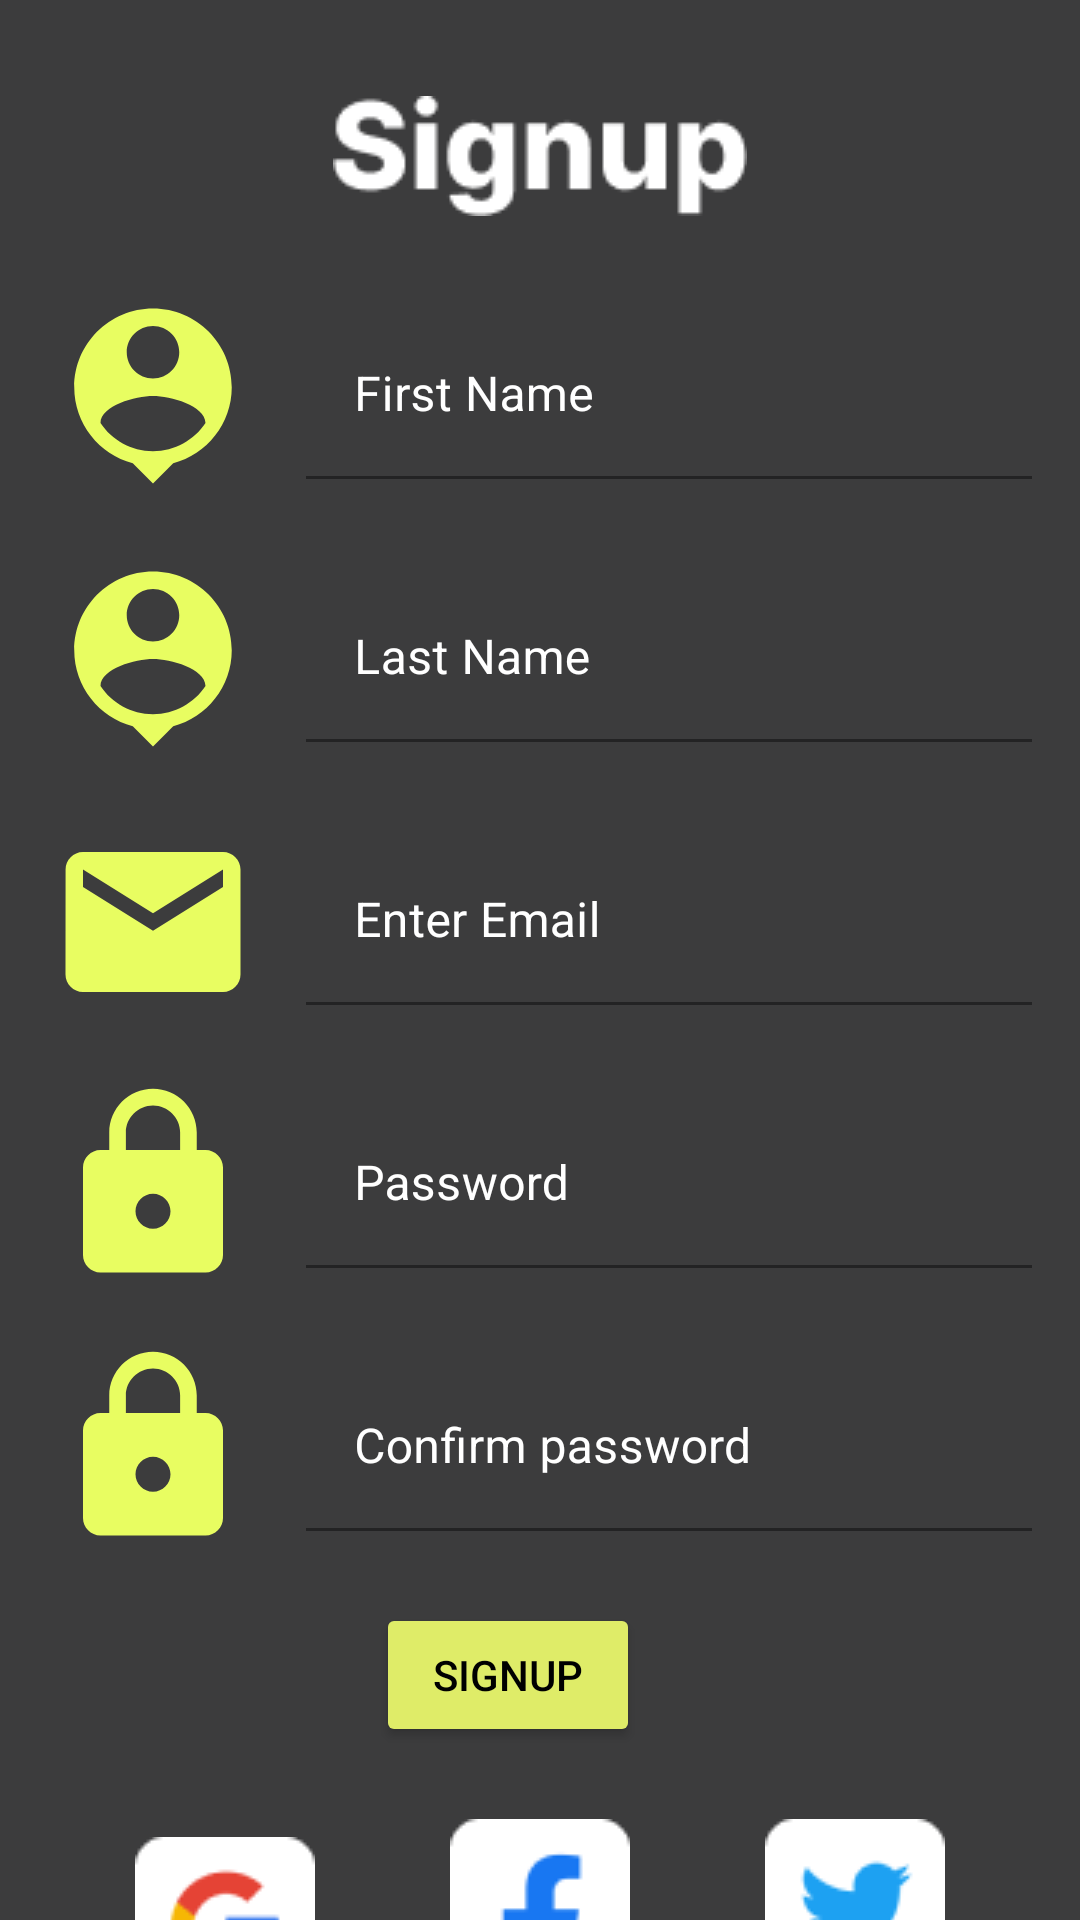

Icon bounding boxes for this 1080×1920 phone screenshot, format (x1, y1, x2, y2):
lock: (83, 1088, 223, 1273), (83, 1351, 223, 1536)
person pin: (74, 308, 232, 484), (74, 571, 232, 747)
